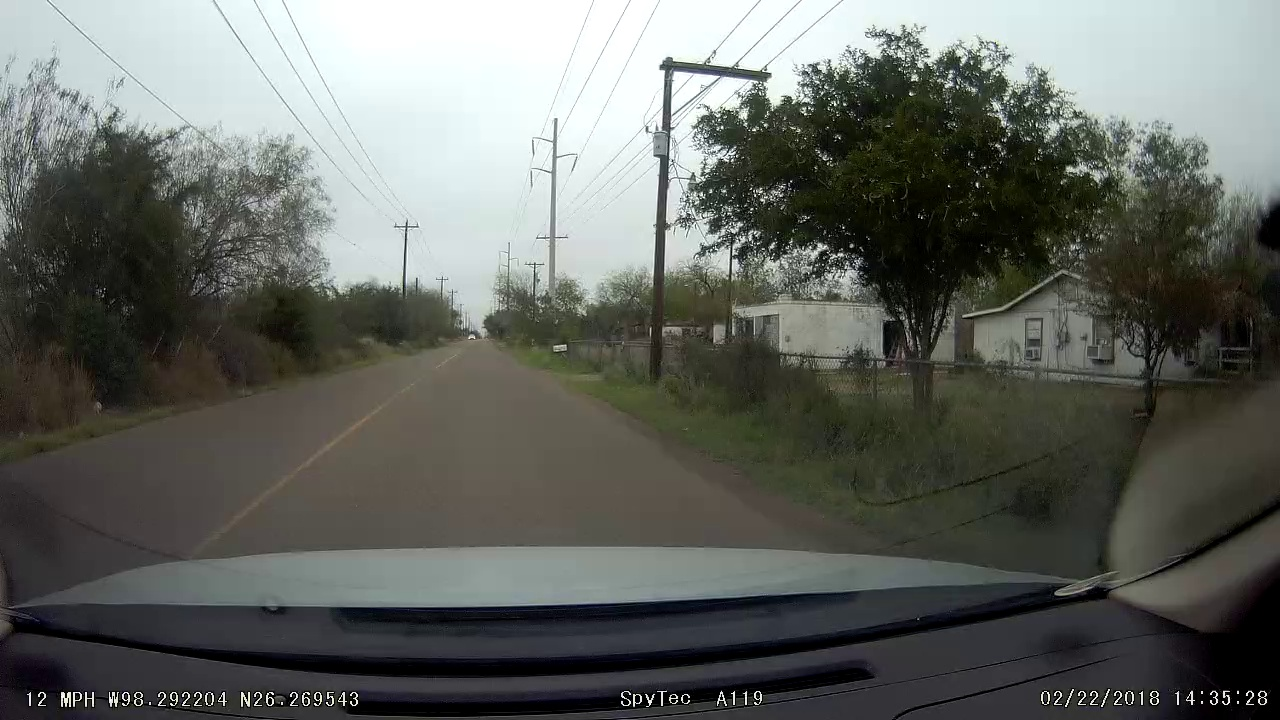blurredLine: (370, 363, 450, 414)
